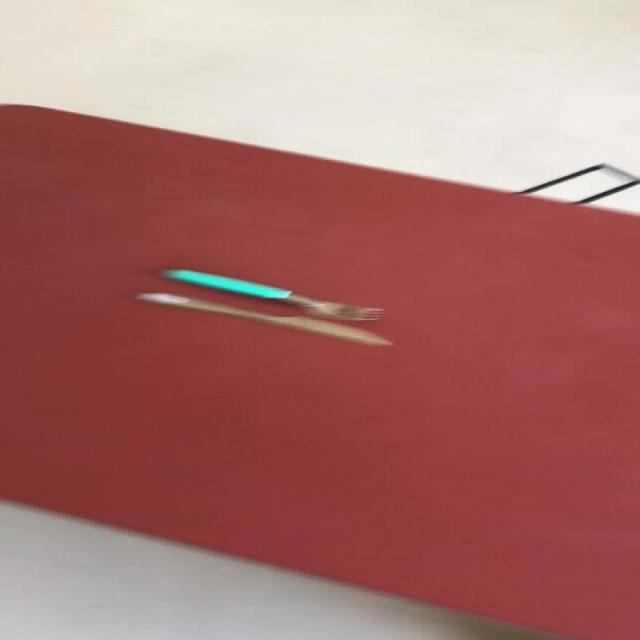Fork: (132, 292, 392, 346), (156, 267, 386, 321)
Knife: (132, 291, 392, 347), (156, 267, 386, 321)
